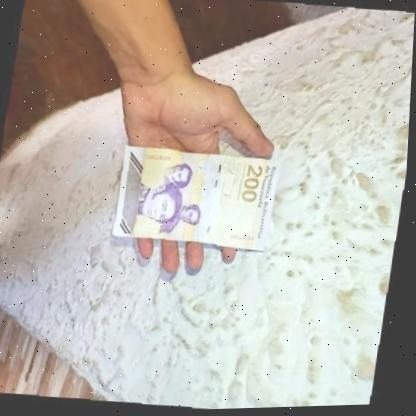two_hundred-front-vef: (112, 141, 286, 256)
